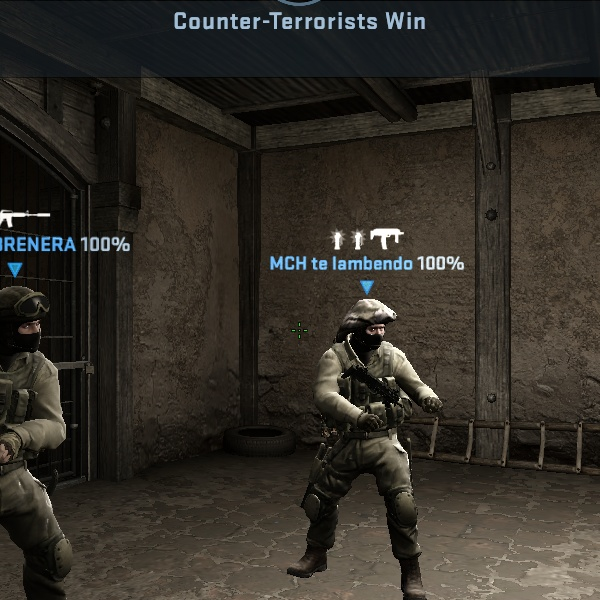ct_body: (275, 296, 447, 589), (2, 279, 112, 600)
ct_head: (0, 279, 63, 362), (333, 299, 398, 364)
